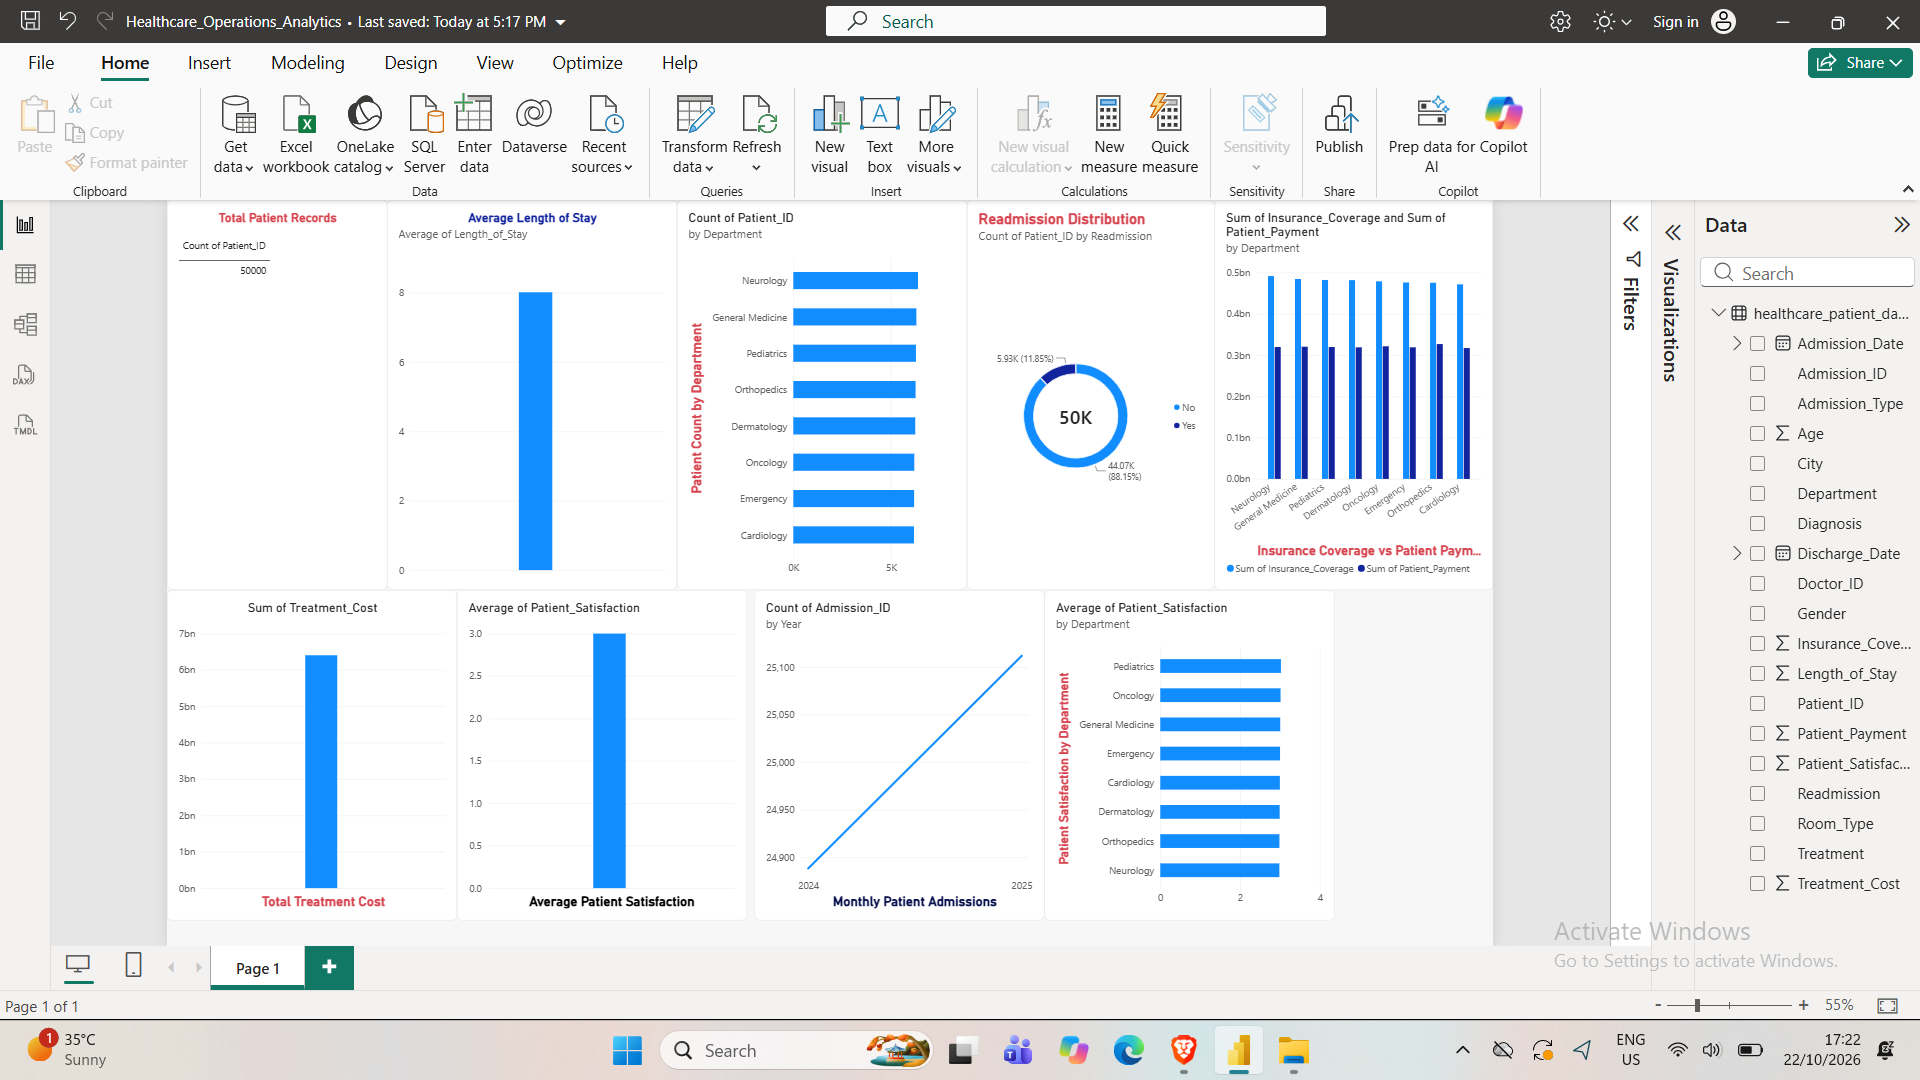

This screenshot's page, from the dashboard's own definition file:
{"tool":"powerbi","page":{"name":"Page 1","canvas":[1920,1080],"ordinal":0},"visuals":[{"type":"tableEx","title":"Total Patient Records","fields":{"Values":["healthcare_patient_data_cleaned.Patient_ID"]},"box":[0,0,319,564],"z":1},{"type":"columnChart","title":"Average Length of Stay","fields":{"Y":["Avg(healthcare_patient_data_cleaned.Length_of_Stay)"]},"box":[319,0,419.9,564],"z":2},{"type":"columnChart","fields":{"Y":["Sum(healthcare_patient_data_cleaned.Treatment_Cost)"]},"box":[0,564,420,478],"z":3},{"type":"columnChart","fields":{"Y":["Avg(healthcare_patient_data_cleaned.Patient_Satisfaction)"]},"box":[419.9,564,420,478],"z":4},{"type":"clusteredBarChart","fields":{"Category":["healthcare_patient_data_cleaned.Department"],"Y":["CountNonNull(healthcare_patient_data_cleaned.Patient_ID)"]},"box":[738.9,0,419.9,564],"z":5},{"type":"lineChart","fields":{"Category":["healthcare_patient_data_cleaned.Admission_Date.Variation.Date Hierarchy.Year","healthcare_patient_data_cleaned.Admission_Date.Variation.Date Hierarchy.Month"],"Y":["CountNonNull(healthcare_patient_data_cleaned.Admission_ID)"]},"box":[850.1,564,420,478],"z":6},{"type":"donutChart","title":"Readmission Distribution","fields":{"Category":["healthcare_patient_data_cleaned.Readmission"],"Y":["CountNonNull(healthcare_patient_data_cleaned.Patient_ID)"]},"box":[1158.8,0,358.1,564],"z":7},{"type":"clusteredBarChart","fields":{"Category":["healthcare_patient_data_cleaned.Department"],"Y":["Avg(healthcare_patient_data_cleaned.Patient_Satisfaction)"]},"box":[1270,564,420,478],"z":8},{"type":"clusteredColumnChart","fields":{"Category":["healthcare_patient_data_cleaned.Department"],"Y":["Sum(healthcare_patient_data_cleaned.Insurance_Coverage)","Sum(healthcare_patient_data_cleaned.Patient_Payment)"]},"box":[1516.5,0,403.6,564.6],"z":9}]}

Visuals, with their boxes on the page's 1920x1080 design canvas (x1, y1, x2, y2). These are canvas units, not pixel positions in the 1920x1080 screenshot, which may show the page scaled, cropped or inside an application window:
"Total Patient Records" tableEx: <bbox>0, 0, 319, 564</bbox>
"Average Length of Stay" columnChart: <bbox>319, 0, 739, 564</bbox>
columnChart - Sum(healthcare_patient_data_cleaned.Treatment_Cost): <bbox>0, 564, 420, 1042</bbox>
columnChart - Avg(healthcare_patient_data_cleaned.Patient_Satisfaction): <bbox>420, 564, 840, 1042</bbox>
clusteredBarChart - healthcare_patient_data_cleaned.Department x CountNonNull(healthcare_patient_data_cleaned.Patient_ID): <bbox>739, 0, 1159, 564</bbox>
lineChart - healthcare_patient_data_cleaned.Admission_Date.Variation.Date Hierarchy.Year x healthcare_patient_data_cleaned.Admission_Date.Variation.Date Hierarchy.Month: <bbox>850, 564, 1270, 1042</bbox>
"Readmission Distribution" donutChart: <bbox>1159, 0, 1517, 564</bbox>
clusteredBarChart - healthcare_patient_data_cleaned.Department x Avg(healthcare_patient_data_cleaned.Patient_Satisfaction): <bbox>1270, 564, 1690, 1042</bbox>
clusteredColumnChart - healthcare_patient_data_cleaned.Department x Sum(healthcare_patient_data_cleaned.Insurance_Coverage): <bbox>1516, 0, 1920, 565</bbox>
